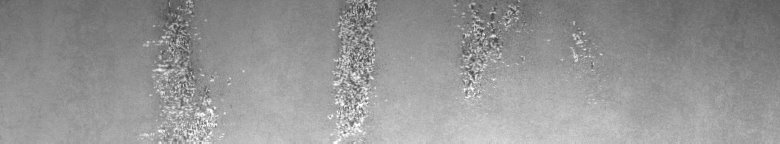hc: (143, 4, 231, 136)
